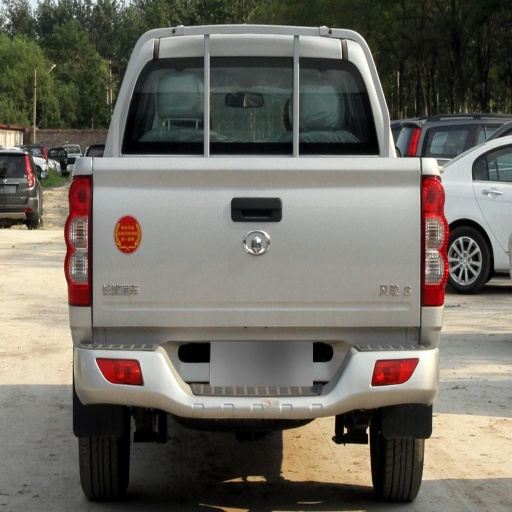back_bumper: (69, 306, 435, 423)
back_left_light: (64, 174, 92, 306)
back_right_door: (474, 146, 508, 252)
trunk: (92, 161, 413, 338)
